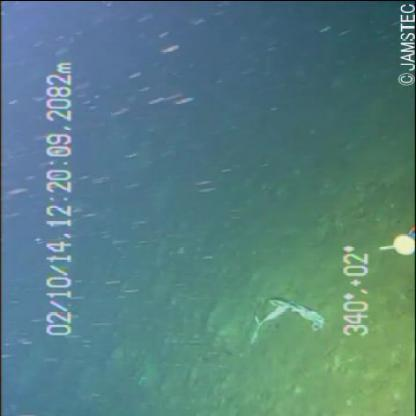Rov: (375, 223, 415, 261)
Rác: (240, 288, 324, 352)
